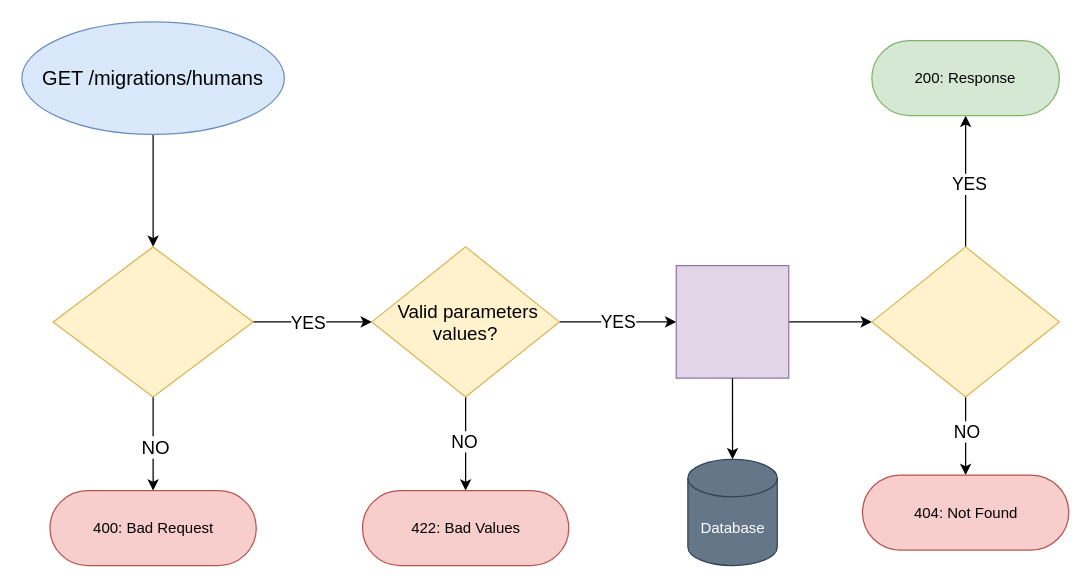
Image size: 1091x588. Some labels were removed from this diagram. Here are the shapes that lost their labels. From the top down, the box of each, then its label:
(52, 246, 253, 397): Valid endpoint?
(675, 264, 789, 378): Query
(871, 246, 1059, 397): Found migrations?
